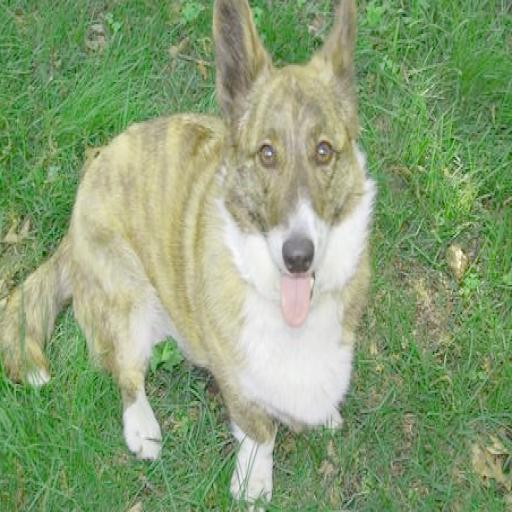dog_face: (213, 0, 354, 300)
